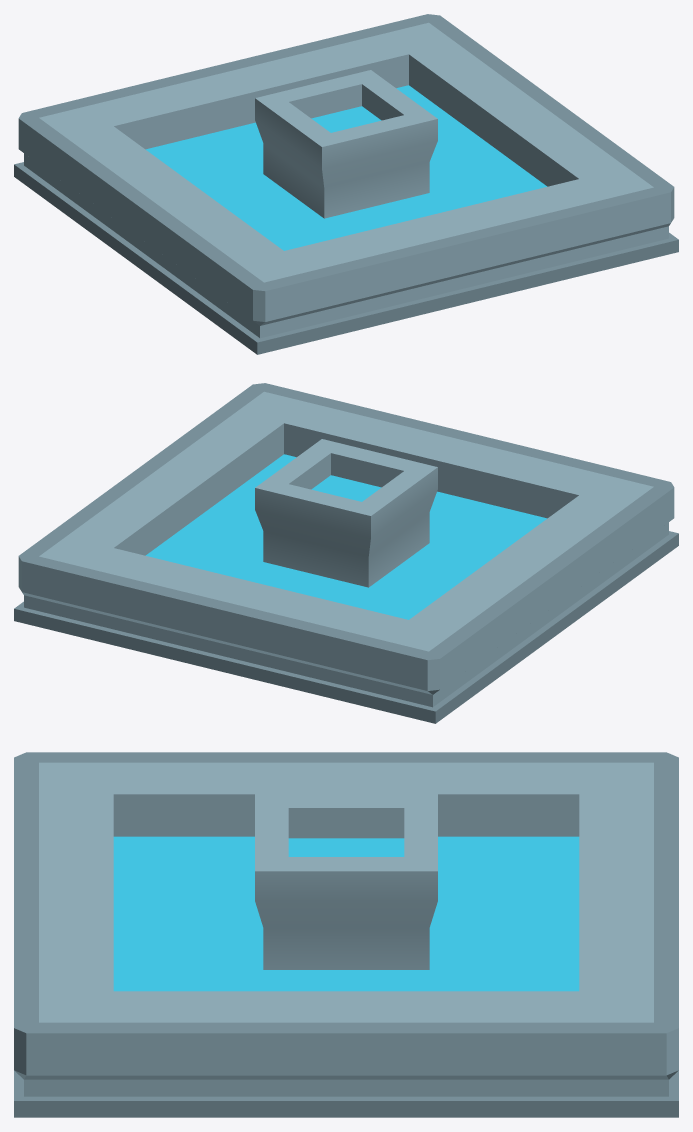
The model's file is fountainSquareDetail.dae.
3 views of the same model, one above another, from view 1: azimuth 30°, elevation 25°; view 2: azimuth 150°, elevation 25°; view 3: azimuth 270°, elevation 25° (orthographic). The views are drawn at different scales.
Parts seen in each view (by area): view 1: fountainSquareDetail; view 2: fountainSquareDetail; view 3: fountainSquareDetail.
Part boxes in pixels (x1,y1,x2,y2): fountainSquareDetail: (14,14,678,354); fountainSquareDetail: (14,383,678,723); fountainSquareDetail: (14,752,678,1117).
Size of the model in its own units: 2 by 0.48 by 2.
